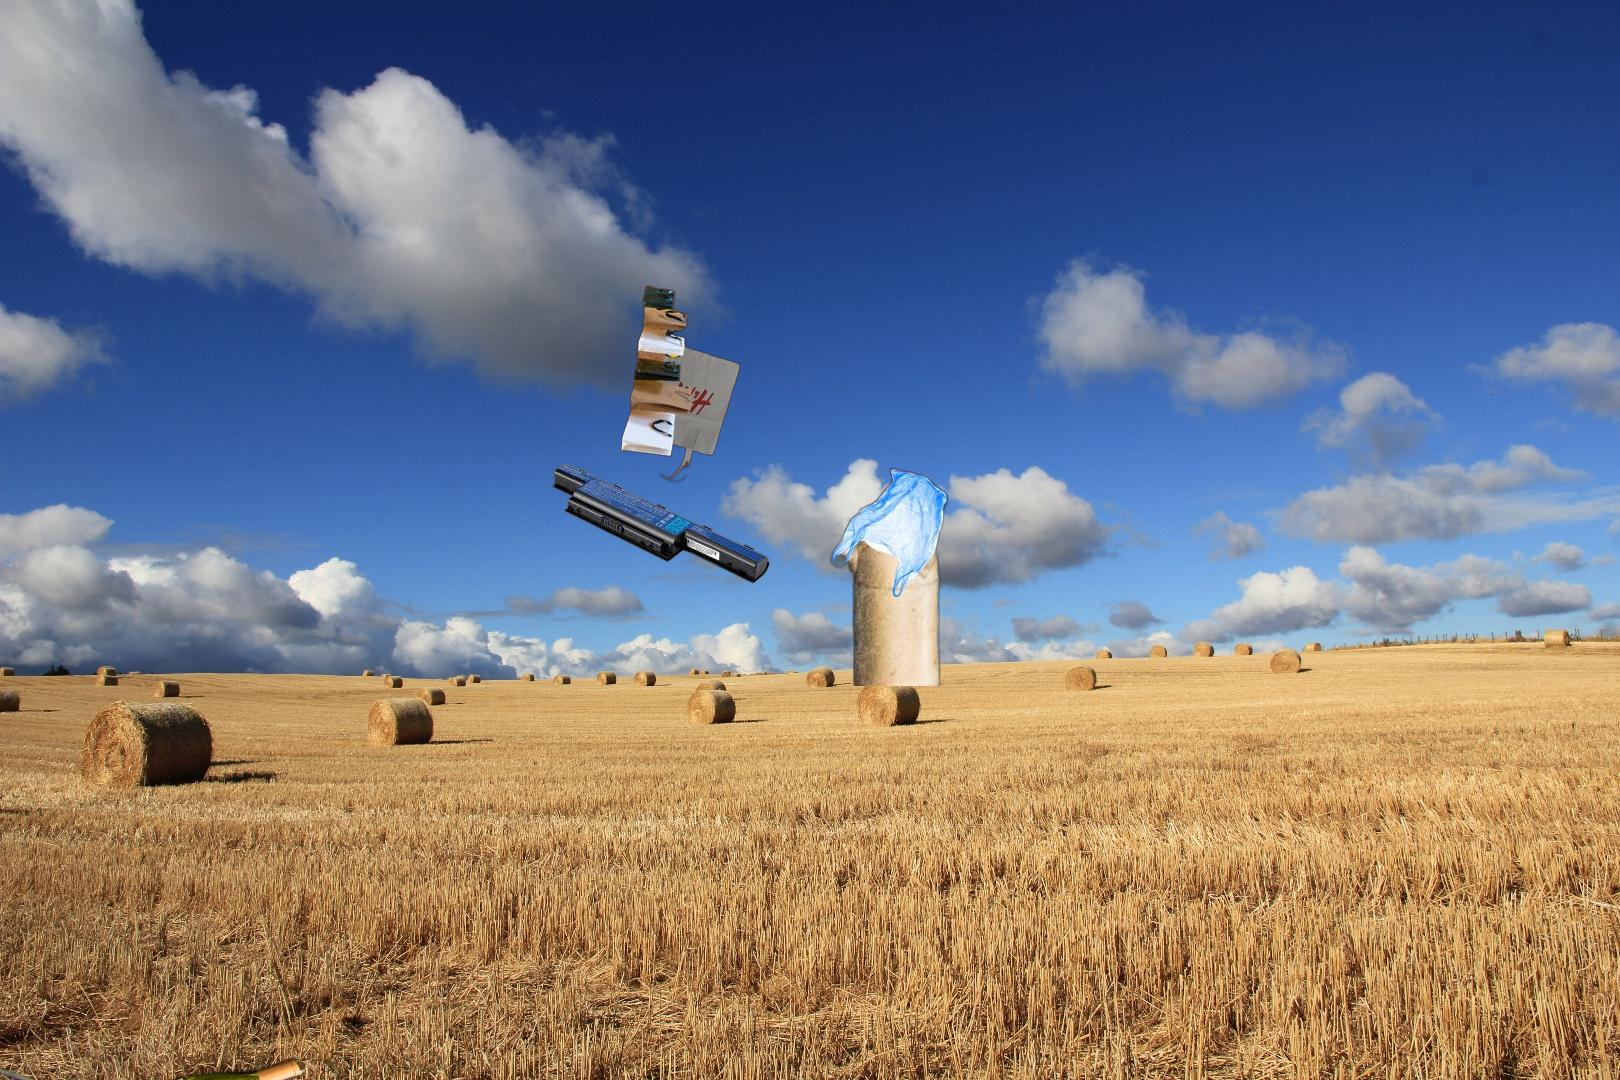battery: (551, 460, 771, 586)
glass: (106, 1026, 409, 1080)
paper-bag: (618, 209, 849, 485)
plastic-bag: (791, 465, 951, 686)
